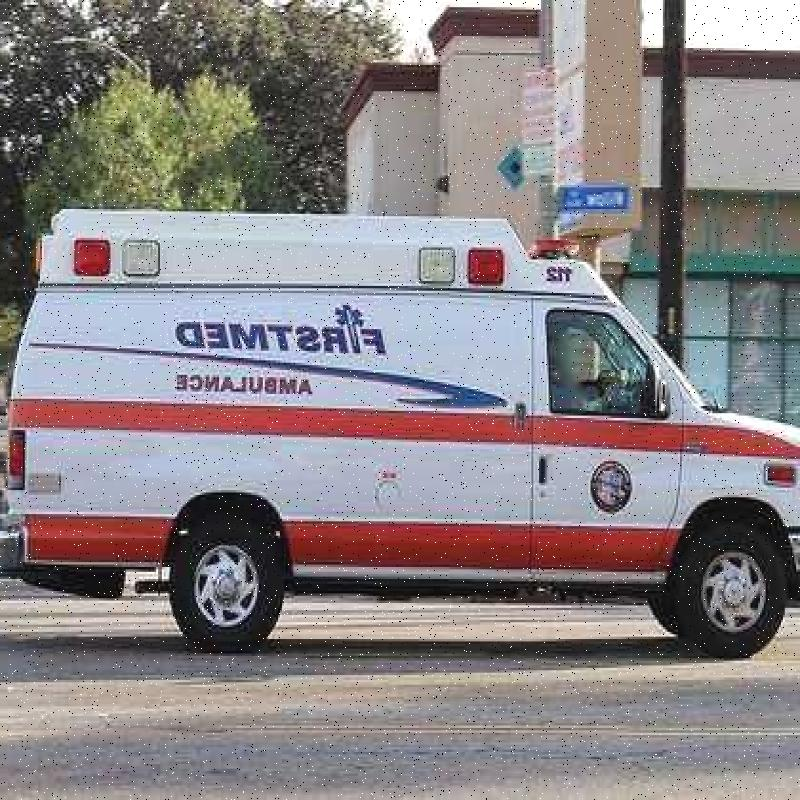AmbulanceSiren: (62, 231, 171, 294), (405, 234, 506, 297)
